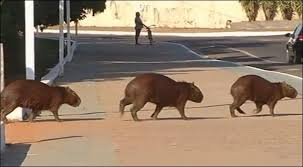capivara: (116, 73, 204, 124), (1, 80, 81, 126), (227, 75, 298, 120)
